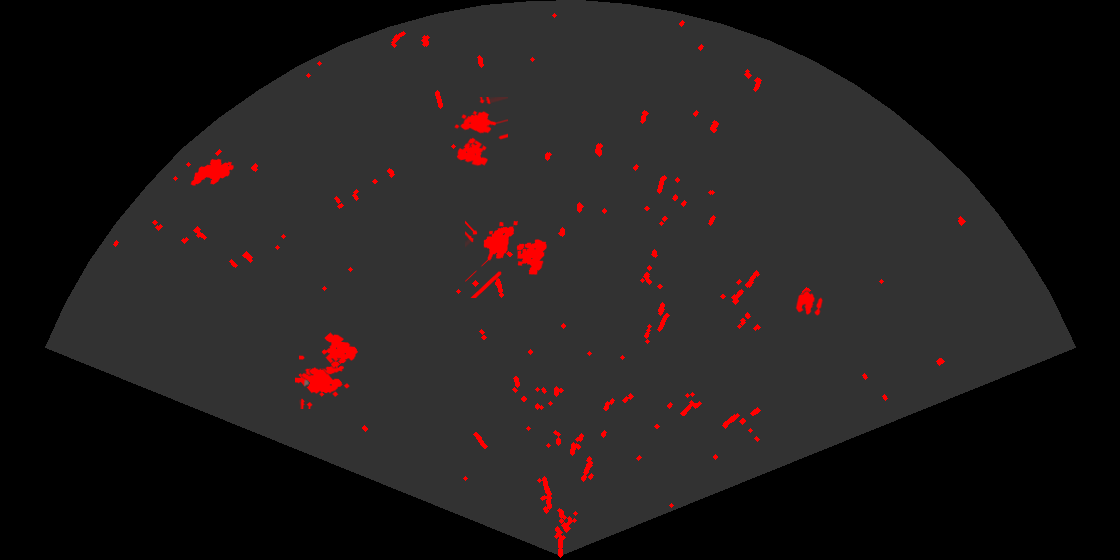AUV: (189, 157, 235, 187)
ball: (794, 290, 824, 317)
cage: (465, 219, 548, 298), (299, 331, 359, 409), (453, 97, 508, 168)
frogman: (295, 364, 344, 388)
